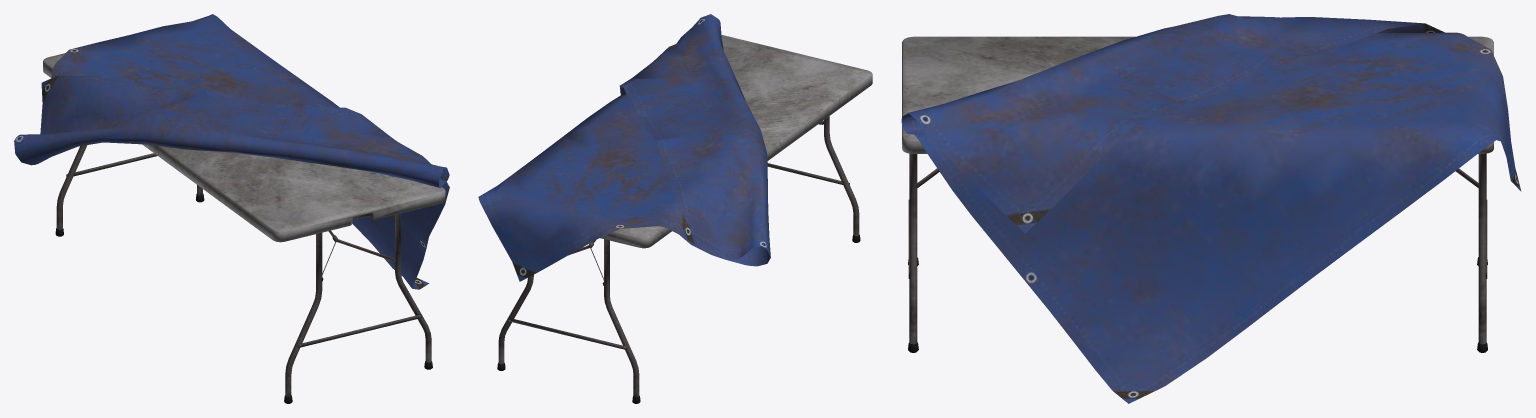
File: foldable_table.glb
3 renders of one model, left to right at view 1: azimuth 30°, elevation 25°; view 2: azimuth 150°, elevation 25°; view 3: azimuth 270°, elevation 25°, orthographic. The views are drawn at different scales.
Parts seen in each view (by area): view 1: foldable_table; view 2: foldable_table; view 3: foldable_table.
Part boxes in pixels (box(x1,y1,x2,y2)): foldable_table: box(14, 14, 449, 403); foldable_table: box(478, 14, 872, 403); foldable_table: box(901, 14, 1521, 403).
Size of the model in its own units: 1.27 by 0.7499 by 1.71.
2 materials, 2 textured.
